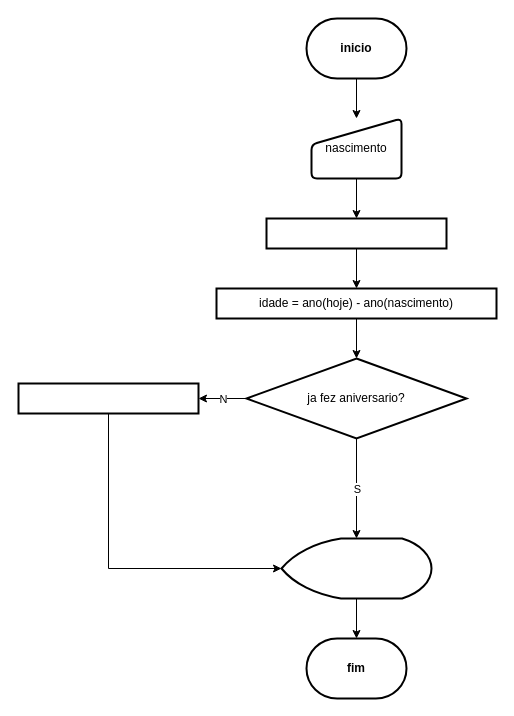
The diagram is 514 pixels wide and 716 high, and some of its shapes have lost their labels. The centre of each missing label's shape, as x and y in pixels:
hoje = data atual: the point at 356,233
idade: the point at 356,568
idade = idade - 1: the point at 108,398
